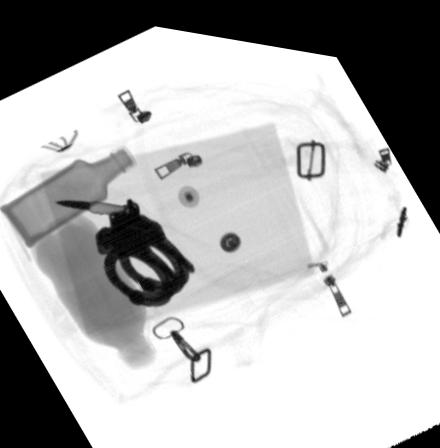Bullet: (53, 197, 134, 215)
HandCuffs: (94, 193, 199, 302)
